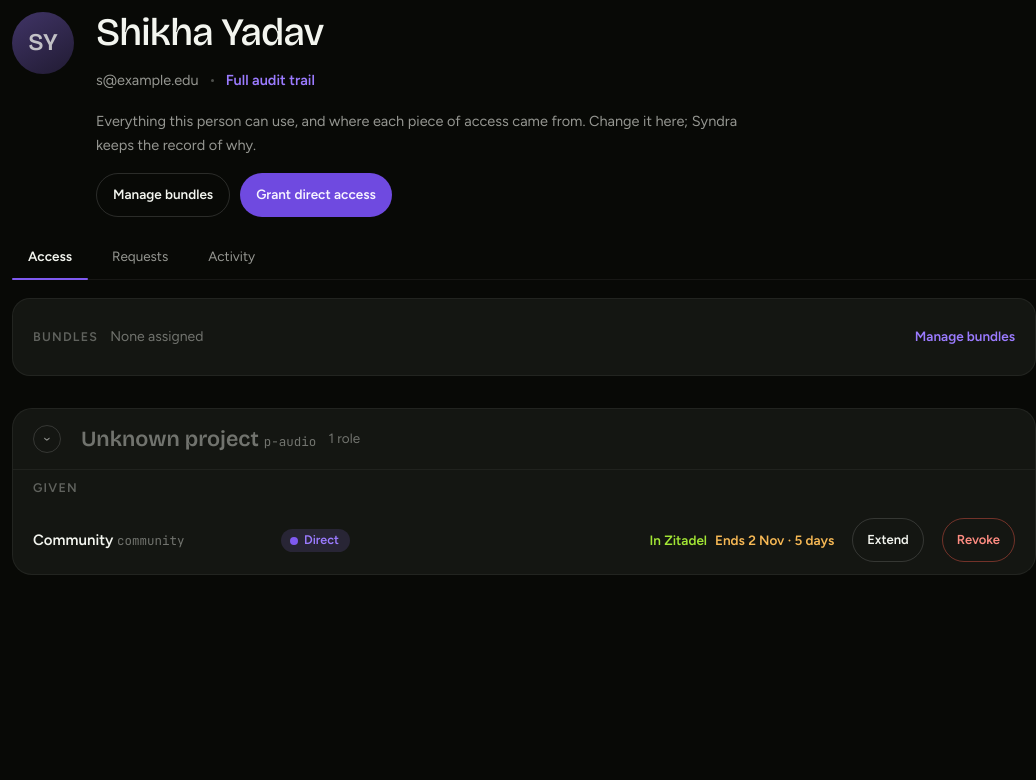
Test case: a person's row that ends soon › extends the same way Expiring does, and says what happened in the row's seat
Click the button "Extend" at (888, 540), box [852,518,924,562]
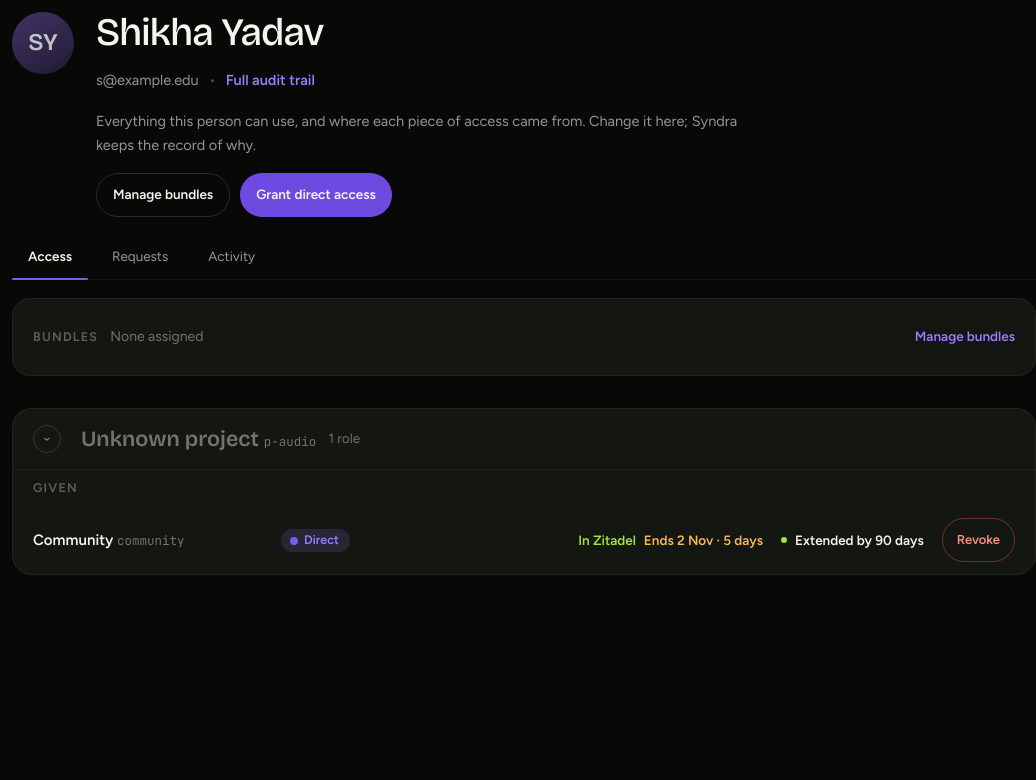
Now the text "Extended by 90 days" is shown, box [781,530,924,551]
